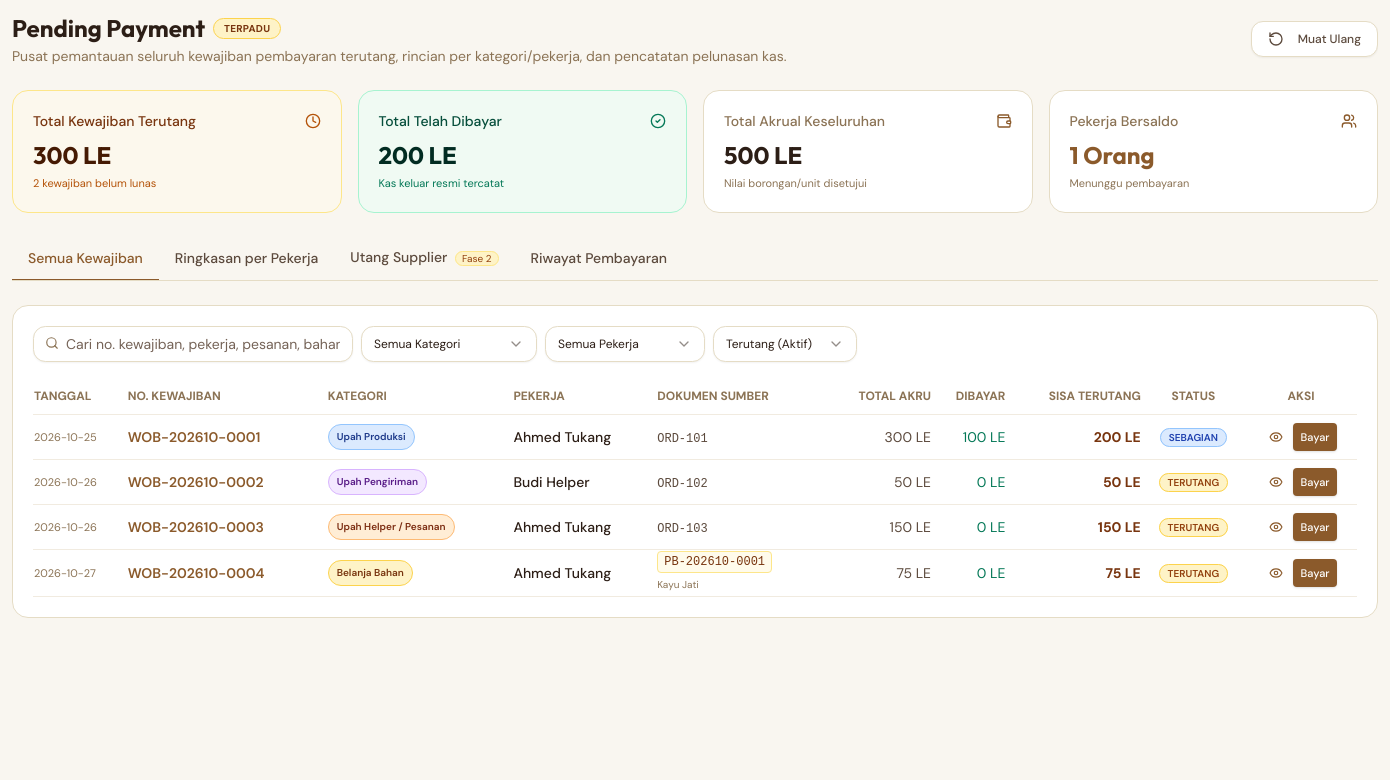
it: AdminWorkerPendingWages - Unit & Component Mount Tests › renders workers summary table row with Bayar Upah button
Click the button with test id "tab-workers" at (247,258), box left=159, top=236, right=334, bottom=280
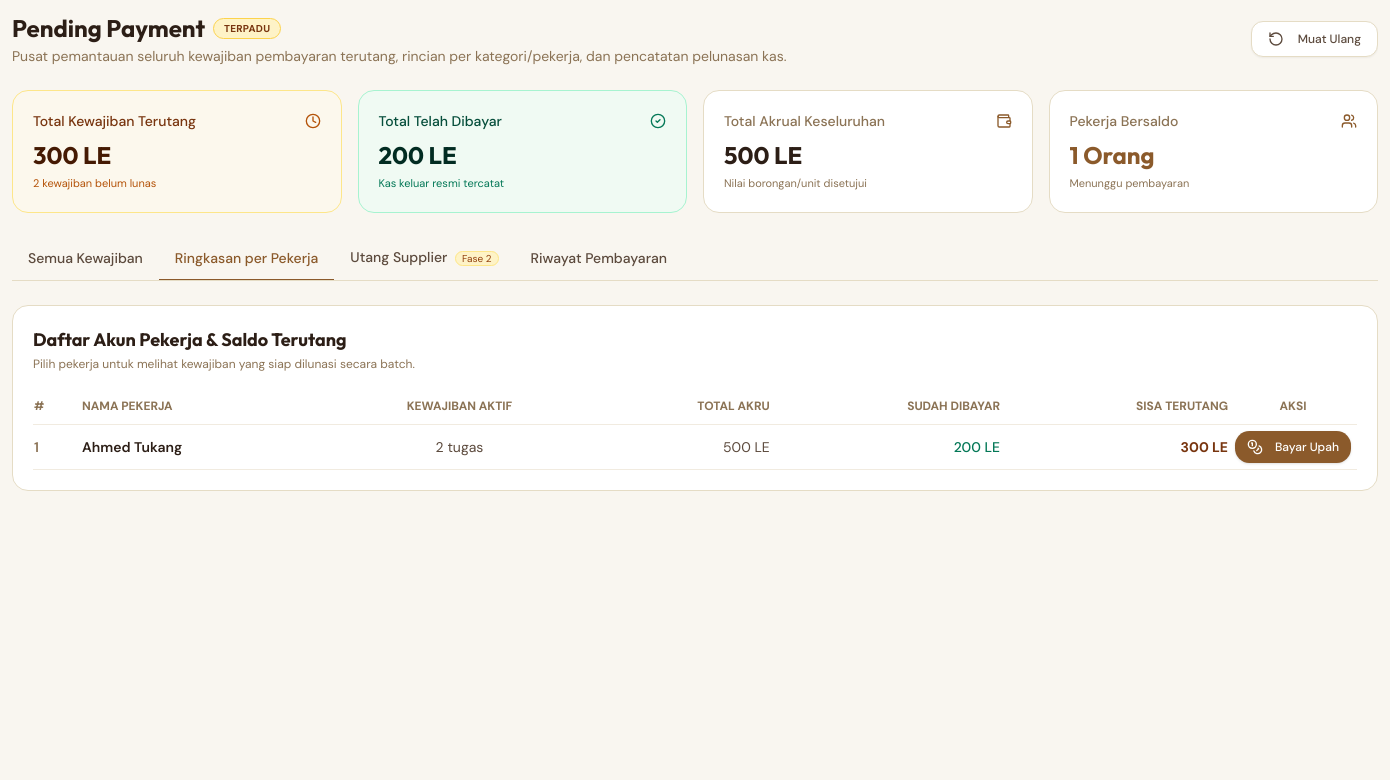
Expected: the row with test id "worker-summary-row-w_1" is shown, left=33, top=424, right=1357, bottom=469
Expected: the row with test id "worker-summary-row-w_1" shows "Ahmed Tukang", left=82, top=438, right=182, bottom=456
Expected: the row with test id "worker-summary-row-w_1" shows "300", left=1181, top=438, right=1228, bottom=456
